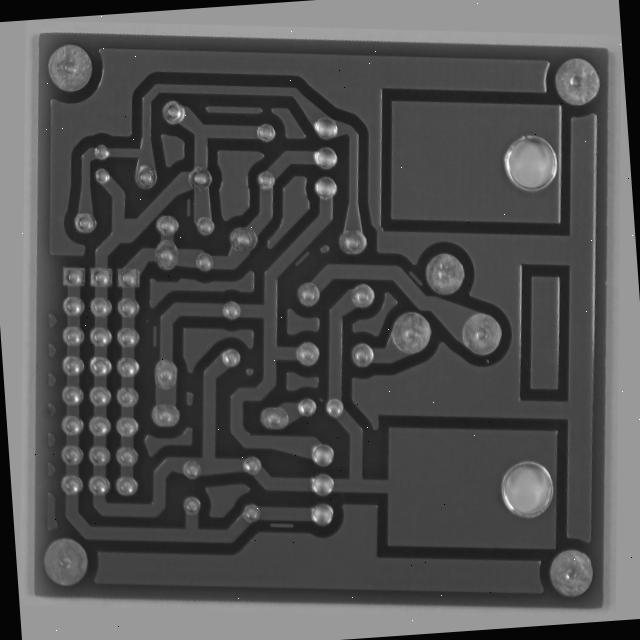spurious_copper: (405, 252, 433, 277), (280, 539, 315, 557), (285, 240, 308, 266), (135, 339, 152, 369), (163, 194, 177, 223)
